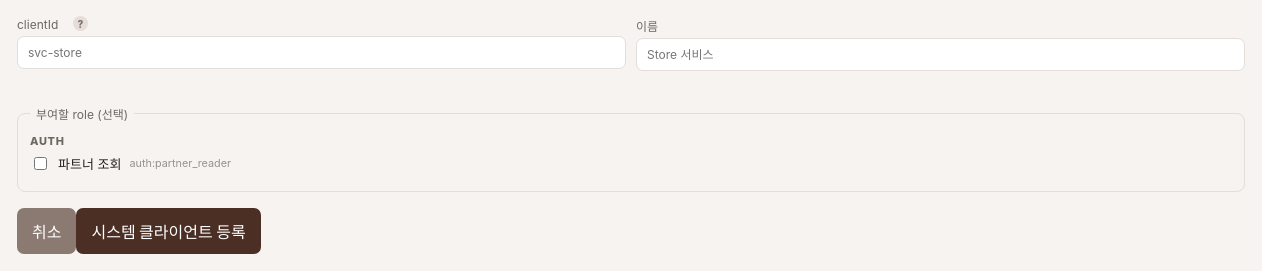
Test: RegisterClientForm › 입력이 잘못된 채 등록을 누르면 요청하지 않고 틀린 필드에 오류와 포커스를 준다
Click the button "시스템 클라이언트 등록".
click(169, 231)  # box left=76, top=208, right=261, bottom=254
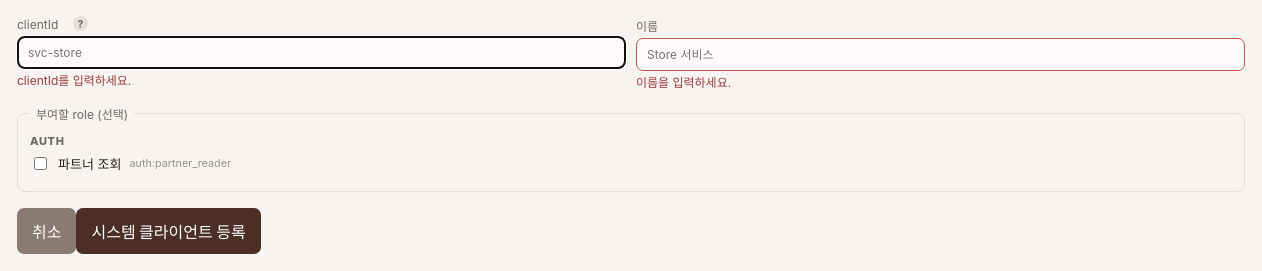
Expected: the text "clientId를 입력하세요." is shown, left=17, top=73, right=131, bottom=88
Expected: the text "이름을 입력하세요." is shown, left=636, top=75, right=731, bottom=90
